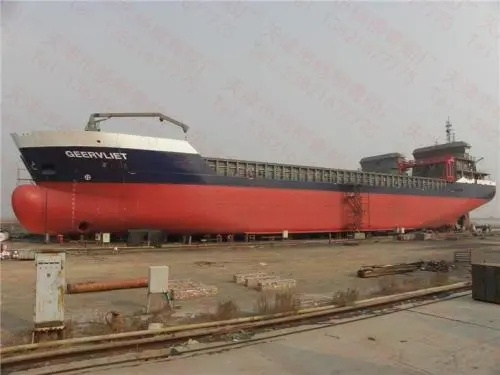Cargoship: (1, 108, 498, 235)
